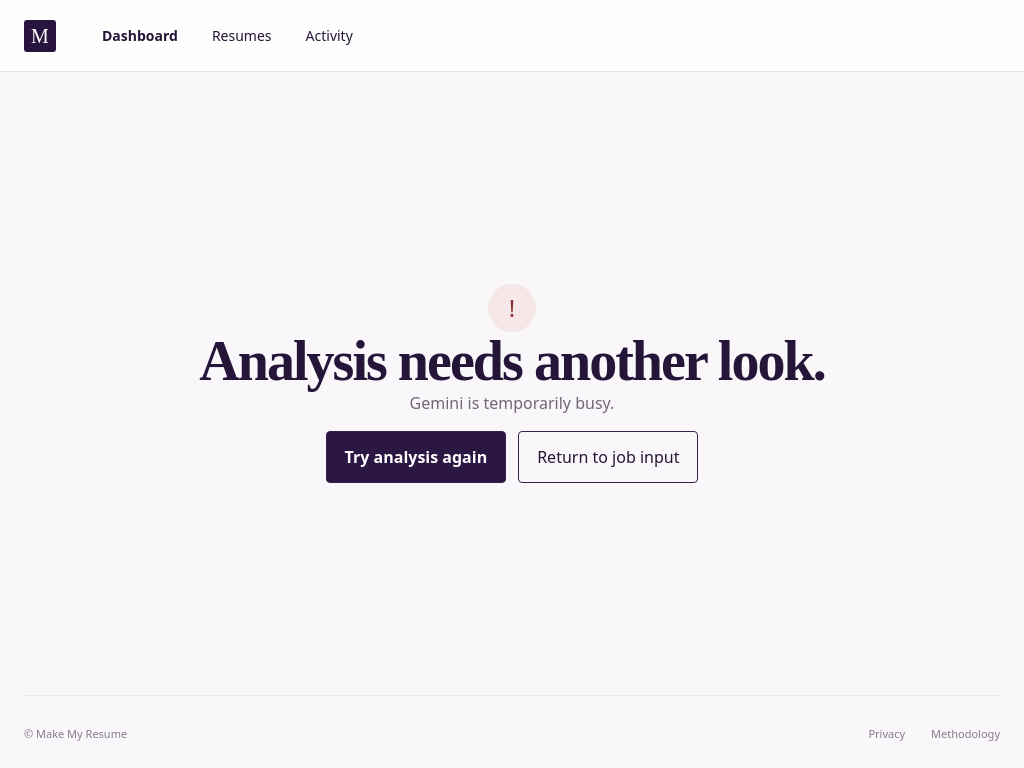
tailoring workflow › requeues a failed record and resumes status polling
This screenshot has width=1024, height=768.
Click the button "Try analysis again" at (416, 457), box 326,431 -> 506,483
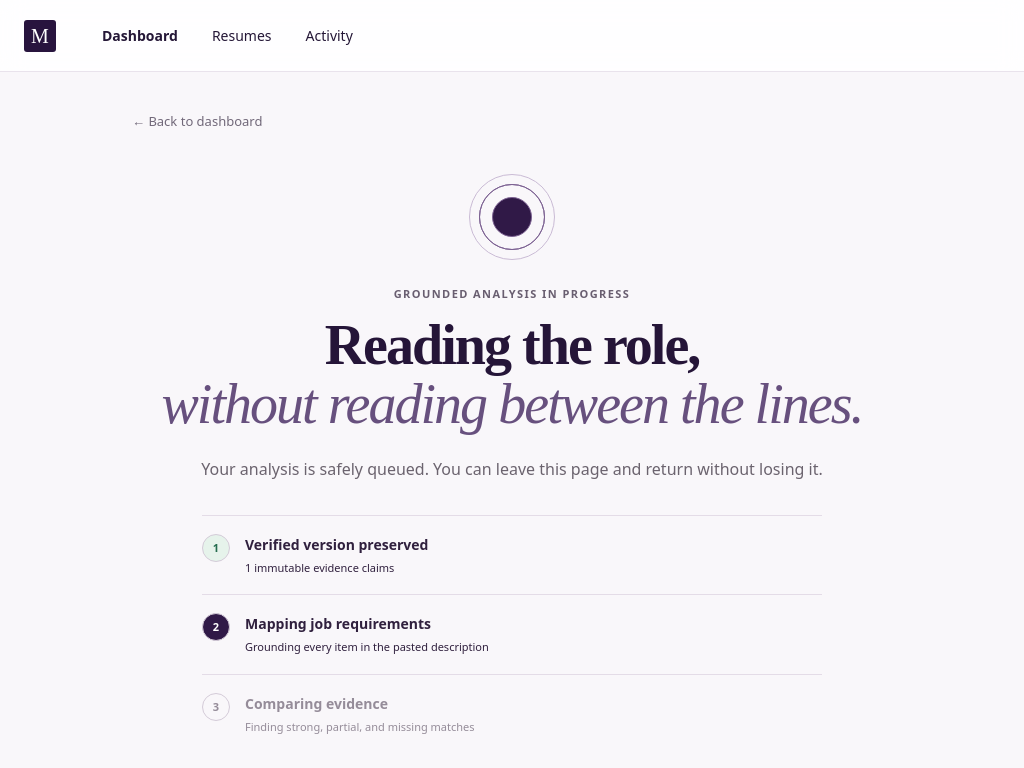
Expected: the text "Your analysis is safely queued" is shown, 201,458 -> 823,480
